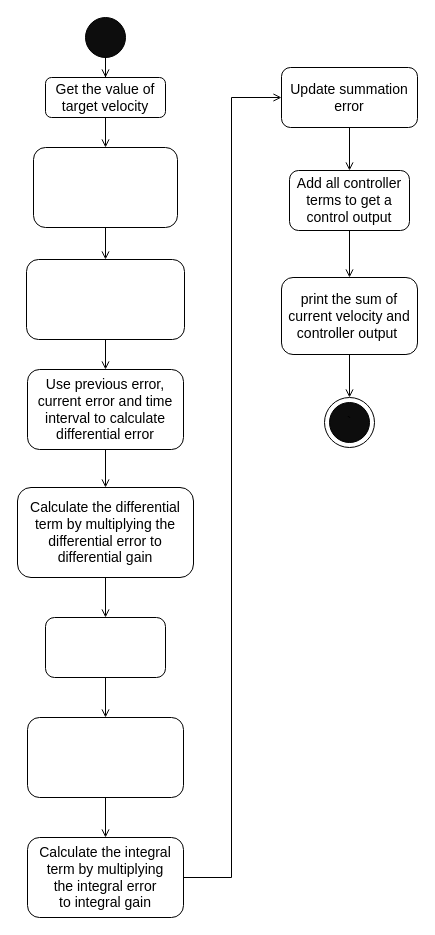
The diagram is 435 pixels wide and 935 high, and some of its shapes have lost their labels. The shapes that lost their labels are listed below. From the top down, each one's centre as x and y in pixels, then its label:
(x=105, y=187): Calculate the eror by comparing target velocity and current velocity
(x=105, y=299): Calculate the proportional term by multiplying the error to proportional gain
(x=105, y=647): Update previous error variable
(x=105, y=757): Use error, summation error and differential error to calculate integral error
